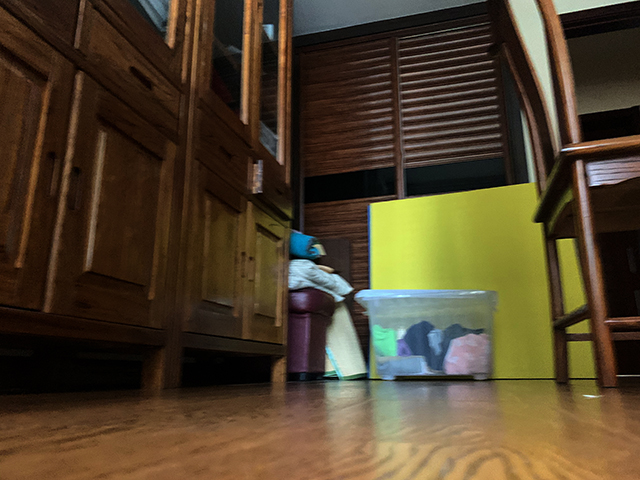cabinet: (1, 1, 293, 388)
stool: (493, 1, 640, 389)
